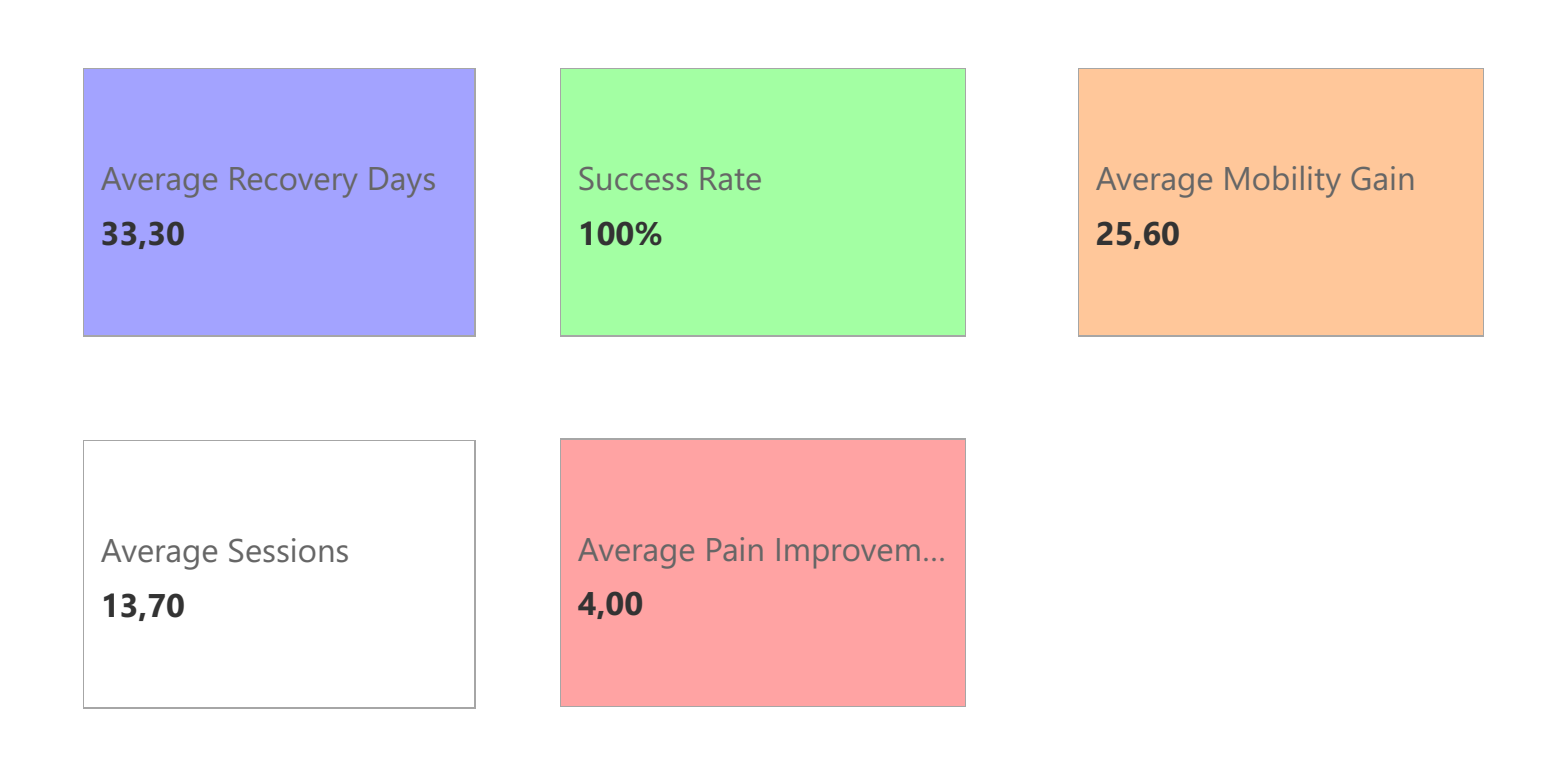

The dashboard page shown, as its layout file describes it:
{"tool":"powerbi","page":{"name":"Overview","canvas":[1280,720],"ordinal":0},"visuals":[{"type":"cardVisual","fields":{"Data":["clinical_data_cleaned csv.Average Recovery Days"]},"box":[113.4,89.3,298,206.3],"z":0},{"type":"cardVisual","fields":{"Data":["clinical_data_cleaned csv.Success Rate"]},"box":[462.1,89.3,307.6,206.3],"z":1},{"type":"cardVisual","fields":{"Data":["clinical_data_cleaned csv.Average Sessions"]},"box":[113.4,360.7,298,206.3],"z":2},{"type":"cardVisual","fields":{"Data":["clinical_data_cleaned csv.Average Pain Improvement"]},"box":[462.1,359.5,307.6,206.3],"z":3},{"type":"cardVisual","fields":{"Data":["clinical_data_cleaned csv.Average Mobility Gain"]},"box":[840.9,89.3,307.6,206.3],"z":4}]}

Visuals, with their boxes on the page's 1280x720 design canvas (x1, y1, x2, y2). These are canvas units, not pixel positions in the 1567x779 screenshot, which may show the page scaled, cropped or inside an application window:
cardVisual - clinical_data_cleaned csv.Average Recovery Days: (x1=113, y1=89, x2=411, y2=296)
cardVisual - clinical_data_cleaned csv.Success Rate: (x1=462, y1=89, x2=770, y2=296)
cardVisual - clinical_data_cleaned csv.Average Sessions: (x1=113, y1=361, x2=411, y2=567)
cardVisual - clinical_data_cleaned csv.Average Pain Improvement: (x1=462, y1=360, x2=770, y2=566)
cardVisual - clinical_data_cleaned csv.Average Mobility Gain: (x1=841, y1=89, x2=1148, y2=296)
